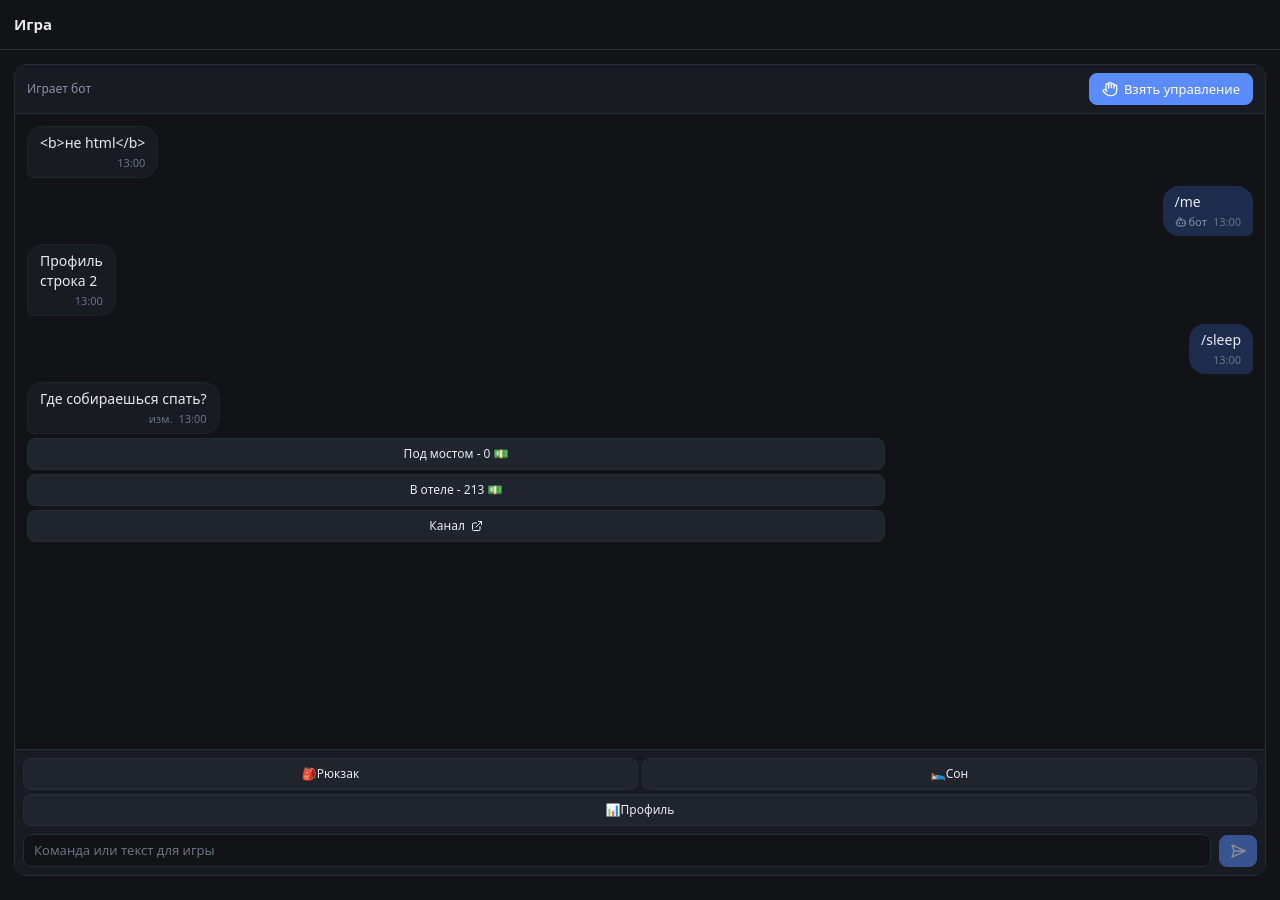
Scenario: Игра: чат › кнопка сообщения: клик с последней ревизией; отказ — системной строкой в чате
The width and height of the screenshot is (1280, 900).
Expected: the text "Где собираешься спать?" is shown, [40,389,206,409]
Click the button "В отеле - 213 💵" at x=456, y=490, box [27,474,885,506]
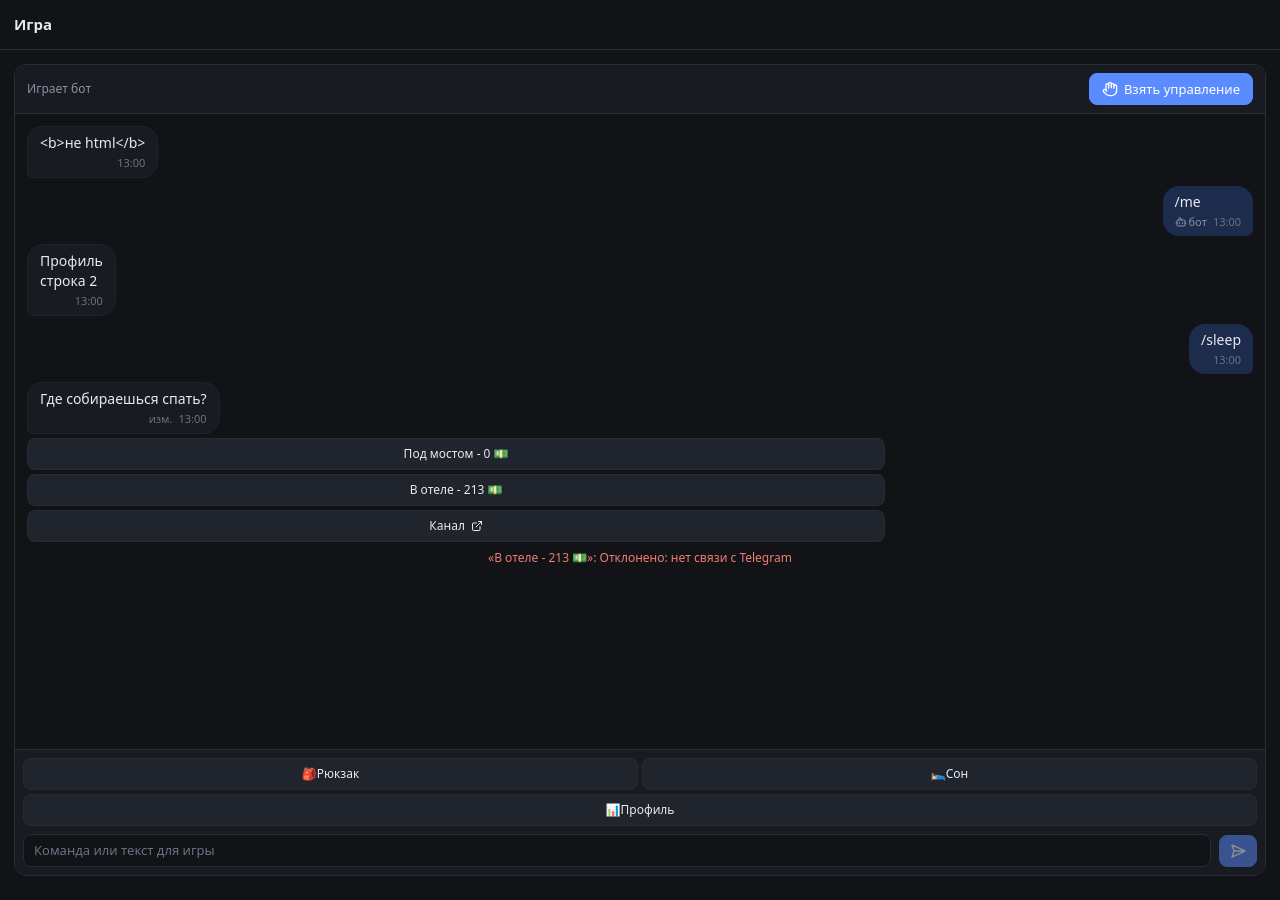
Result: the text "«В отеле - 213 💵»: Отклонено: нет связи с Telegram" is shown at [488,549,792,566]
